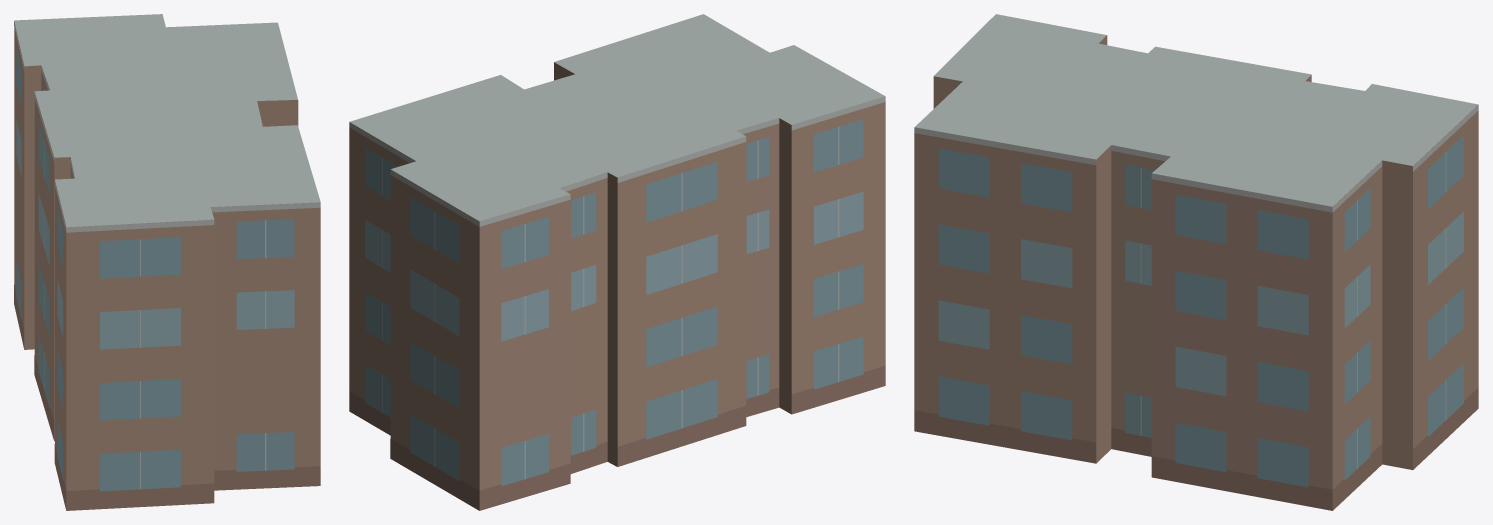
The model's file is survey-upis-32669777.glb.
3 views of the same model, side by side, from view 1: azimuth 30°, elevation 25°; view 2: azimuth 150°, elevation 25°; view 3: azimuth 270°, elevation 25° (orthographic). The views are drawn at different scales.
Parts seen in each view (by area): view 1: survey-upis-32669777.tmp; view 2: survey-upis-32669777.tmp; view 3: survey-upis-32669777.tmp.
Part boxes in pixels (x1,y1,x2,y2): survey-upis-32669777.tmp: (14, 14, 320, 510); survey-upis-32669777.tmp: (349, 14, 885, 510); survey-upis-32669777.tmp: (914, 14, 1478, 510).
Size of the model in its own units: 17.42 by 12.8 by 21.53.
